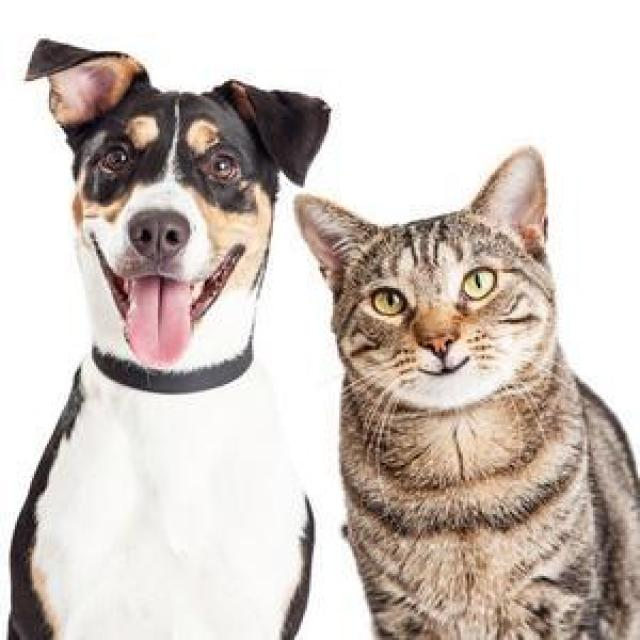cat: (279, 171, 614, 451)
dog: (11, 29, 338, 395)
